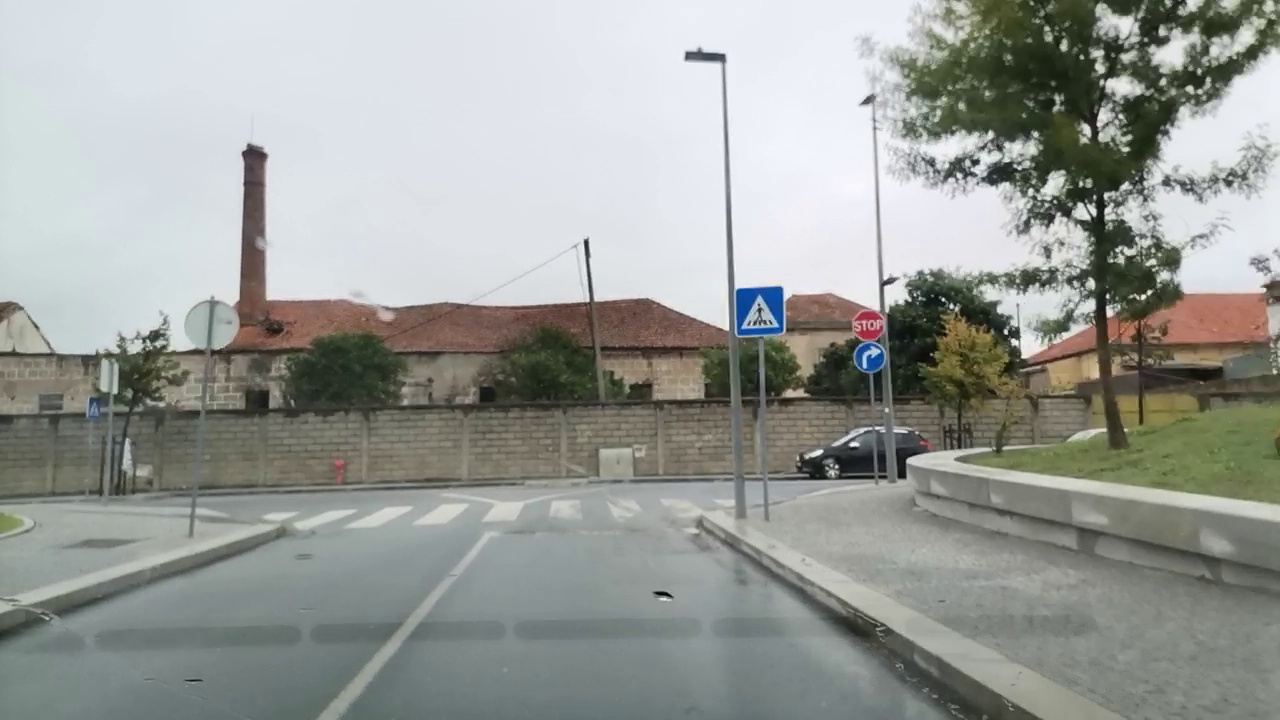Stairs: (257, 496, 751, 534)
